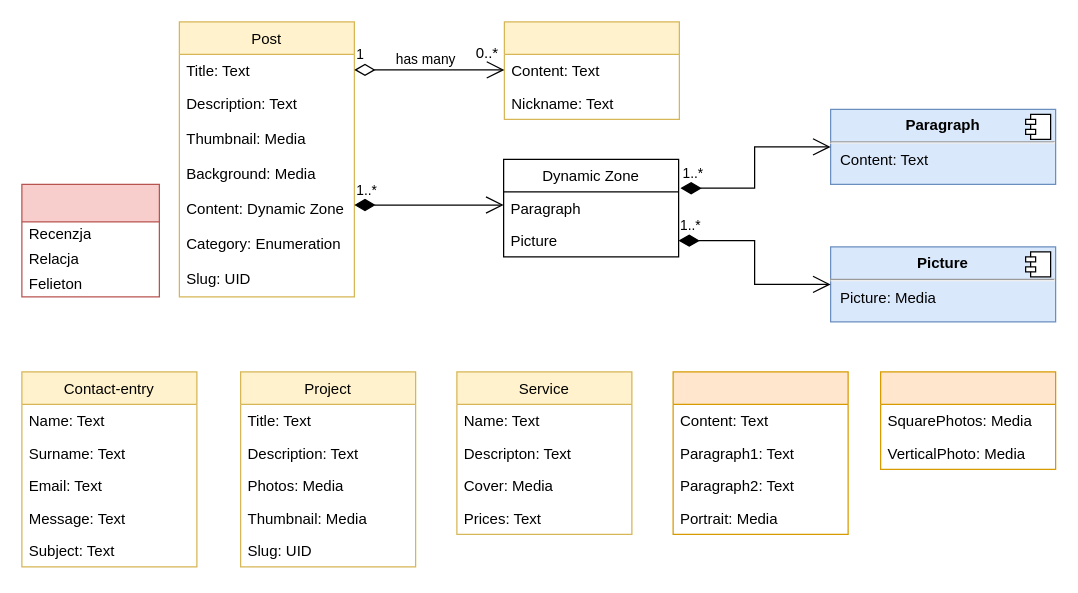
This 1078x593 diagram has some shape labels left out. Here are the shapes that lost their labels. From the top down, the box of each, then its label:
(503, 21, 679, 119): Comment
(21, 183, 159, 297): Category (enum)
(879, 371, 1056, 469): MainPage
(672, 371, 848, 534): AboutPage
